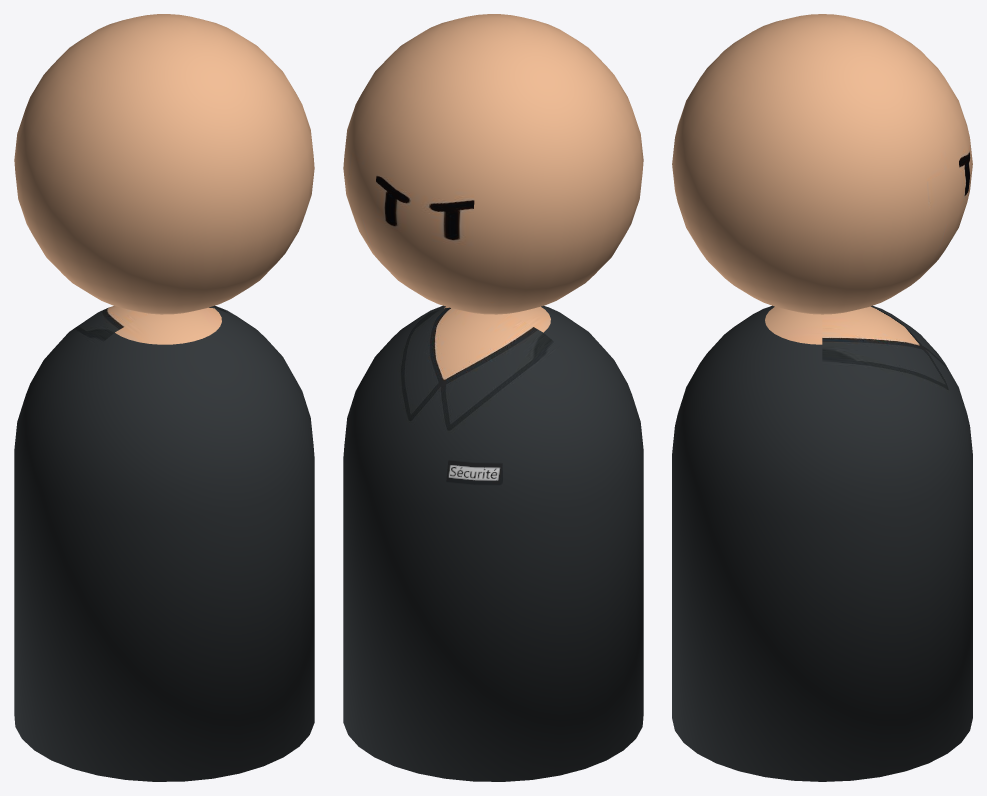
Rendered from Securite.fbx.
3 renders of one model, left to right at view 1: azimuth 30°, elevation 25°; view 2: azimuth 150°, elevation 25°; view 3: azimuth 270°, elevation 25°, orthographic.
Visible parts, largest first — view 1: corp, tete; view 2: corp, tete; view 3: corp, tete.
Boxes of the visible parts, <box> form: corp: <box>14,305,314,781</box>; tete: <box>14,14,314,314</box>; corp: <box>343,305,643,781</box>; tete: <box>343,14,643,314</box>; corp: <box>672,305,972,781</box>; tete: <box>672,14,972,314</box>.
Bounding box in the file's own units: 120 × 304 × 120.
